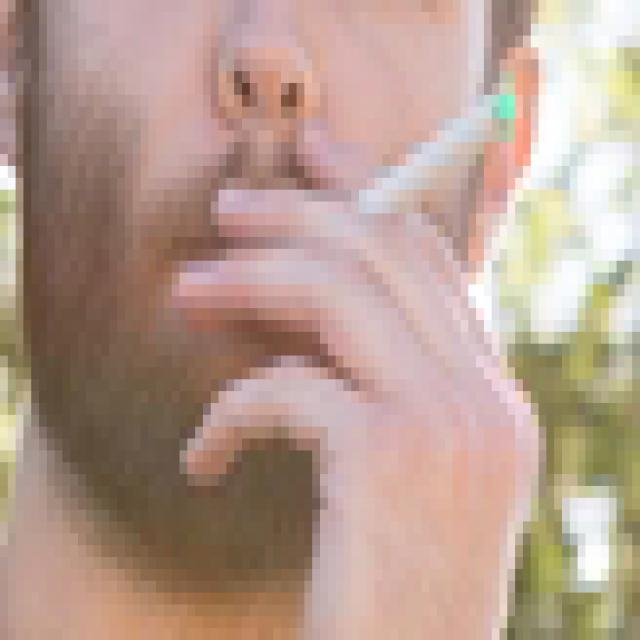smoking: (350, 87, 518, 218)
